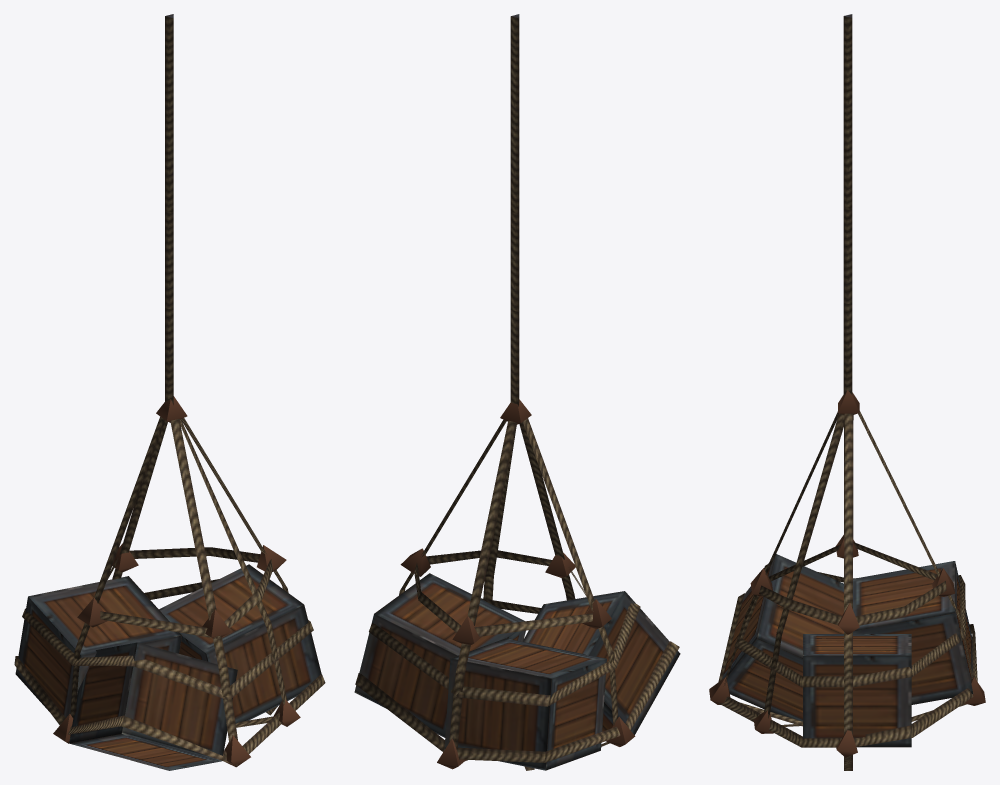
Rendered from X_Misc_WangXiang_01.FBX.
3 renders of one model, left to right at view 1: azimuth 30°, elevation 25°; view 2: azimuth 150°, elevation 25°; view 3: azimuth 270°, elevation 25°, orthographic. The views are drawn at different scales.
Parts seen in each view (by area): view 1: 2_Misc_WangXiang_01; view 2: 2_Misc_WangXiang_01; view 3: 2_Misc_WangXiang_01.
Part boxes in pixels (x1=…): 2_Misc_WangXiang_01: x1=14, y1=14, x2=325, y2=770; 2_Misc_WangXiang_01: x1=354, y1=14, x2=680, y2=770; 2_Misc_WangXiang_01: x1=709, y1=14, x2=985, y2=770.
Bounding box in the file's own units: 202 × 565 × 196.
